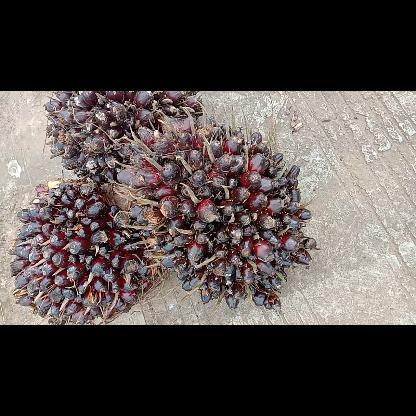TBS mentah: (114, 115, 322, 315), (8, 178, 170, 324), (40, 91, 208, 187)
